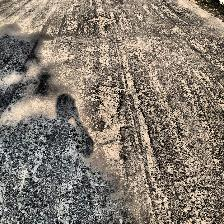pothole: (87, 84, 125, 160), (84, 16, 118, 26)
